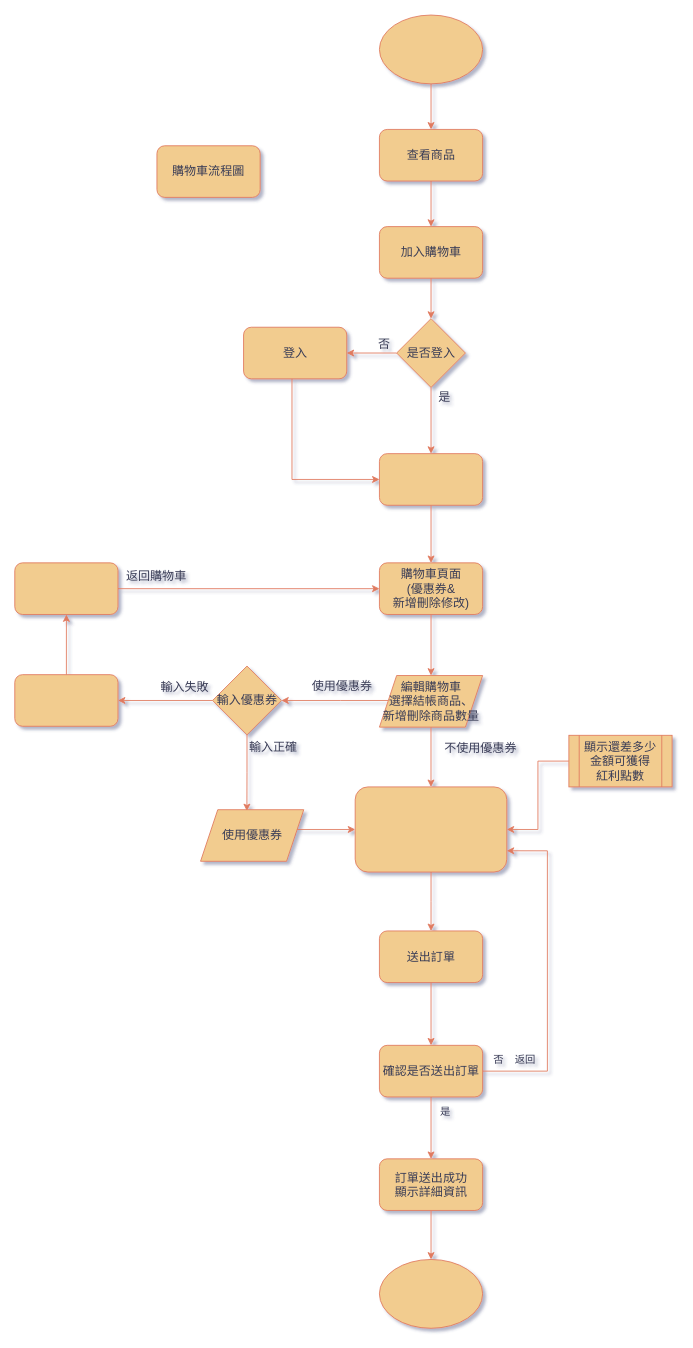
Some shapes in this 693 by 1348 pixel diagram are drawn without their labels. Here are the shapes that lost their labels. From the top down, the centre of each, then its label:
At point 431,49: "購物商城".
At point 431,479: "繼續選購".
At point 66,588: "顯示再試一次".
At point 66,700: "無法使用此優惠券".
At point 430,829: "選擇地址&收件人&支付方式".
At point 431,1293: "(返回首頁)".
